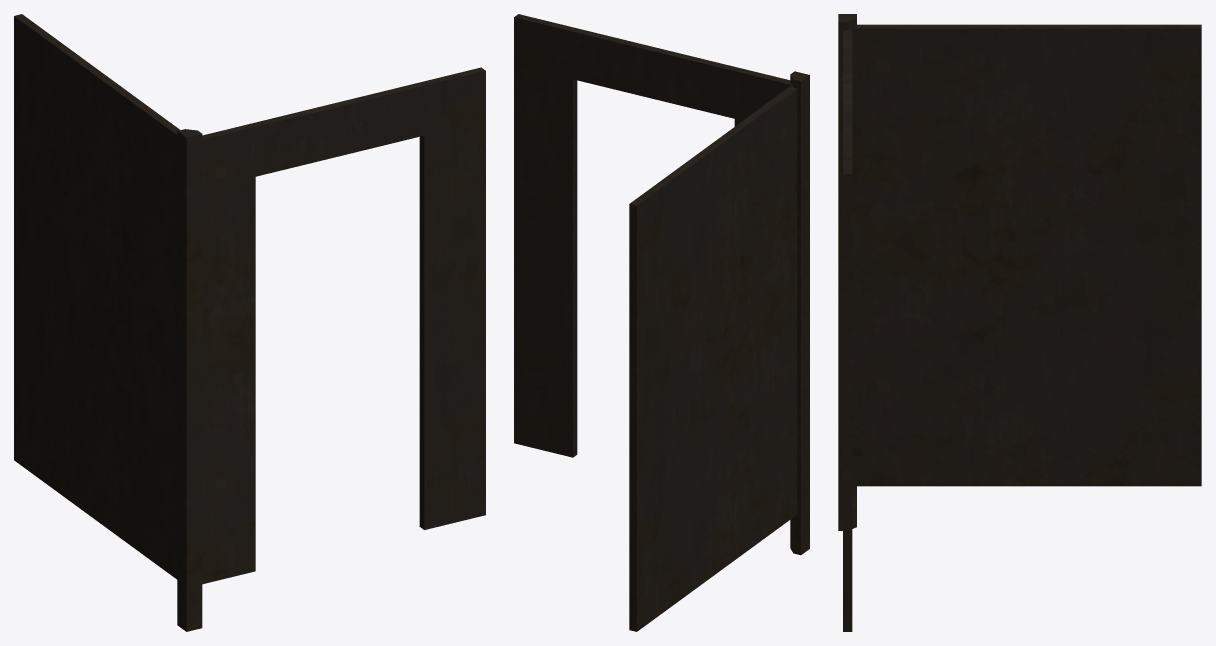
File: toilet_cabin_mp_1.glb
The picture shows the model from 3 angles, left to right: view 1: azimuth 30°, elevation 25°; view 2: azimuth 150°, elevation 25°; view 3: azimuth 270°, elevation 25°; orthographic projection. The views are drawn at different scales.
Visible parts, largest first — view 1: toilet_cabin_mp_1; view 2: toilet_cabin_mp_1; view 3: toilet_cabin_mp_1.
Part boxes in pixels (box(x1,y1,x2,y2)): toilet_cabin_mp_1: box(14, 14, 485, 631); toilet_cabin_mp_1: box(514, 14, 809, 631); toilet_cabin_mp_1: box(838, 14, 1201, 631).
Size of the model in its own units: 1.52 by 2.38 by 1.54.
Materials: 1 (1 with a texture image).
